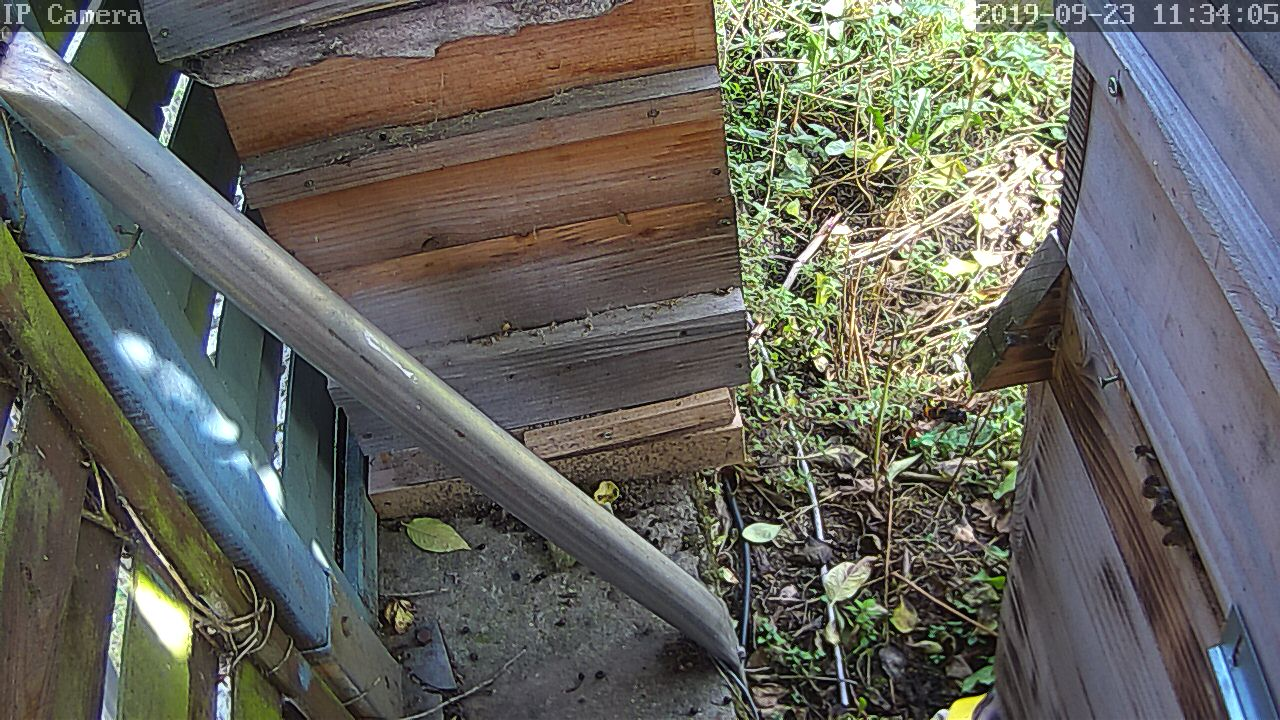bee: (1155, 520, 1199, 554), (1140, 473, 1175, 505), (1124, 437, 1161, 467), (1147, 504, 1182, 532)
hornet: (913, 398, 967, 431)
